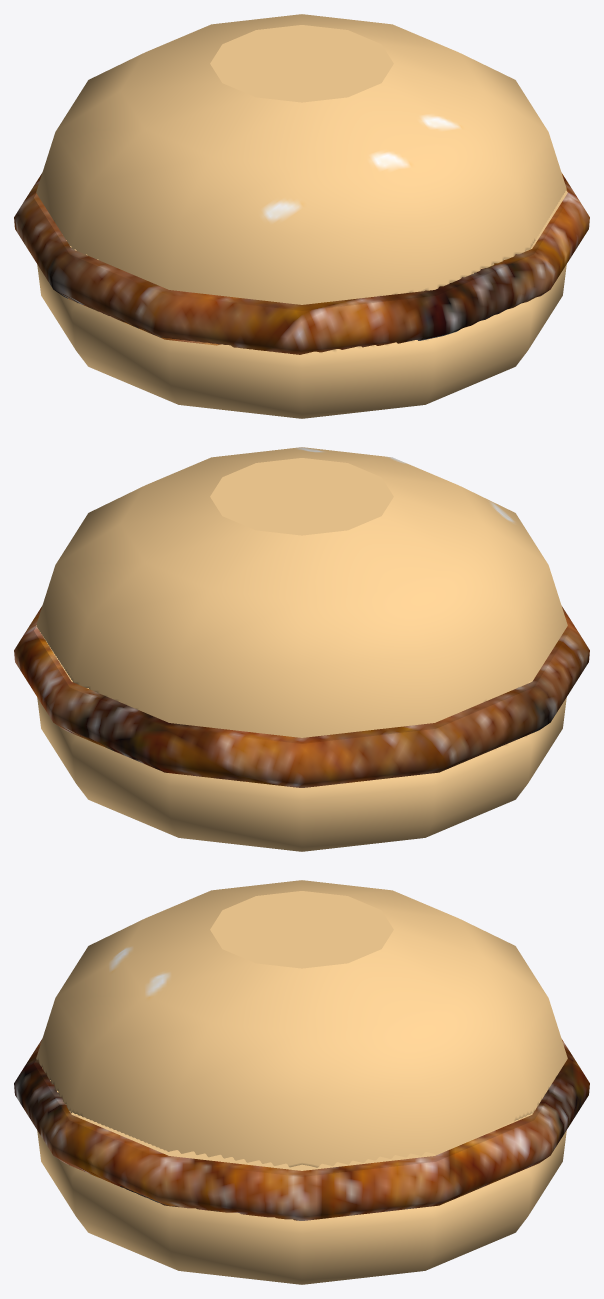
Rendered from hamburger.FBX.
3 views of the same model, one above another, from view 1: azimuth 30°, elevation 25°; view 2: azimuth 150°, elevation 25°; view 3: azimuth 270°, elevation 25° (orthographic).
Visible parts, largest first — view 1: Cylinder003; view 2: Cylinder003; view 3: Cylinder003.
Boxes of the visible parts, x1,y1,x2,y2 form: Cylinder003: [14, 14, 589, 418]; Cylinder003: [14, 447, 589, 851]; Cylinder003: [14, 880, 589, 1284].
Size of the model in its own units: 905 by 905 by 435.
Materials: 1 (1 with a texture image).
